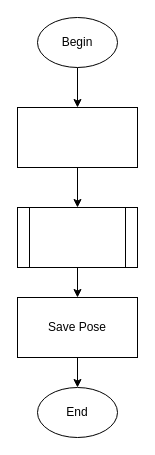
Some shapes in this 155 by 455 pixel diagram are drawn without their labels. Each missing label, with the centre of its shape:
Read joint angles: point (77, 137)
Solve Forward Kinematics: point (77, 237)
